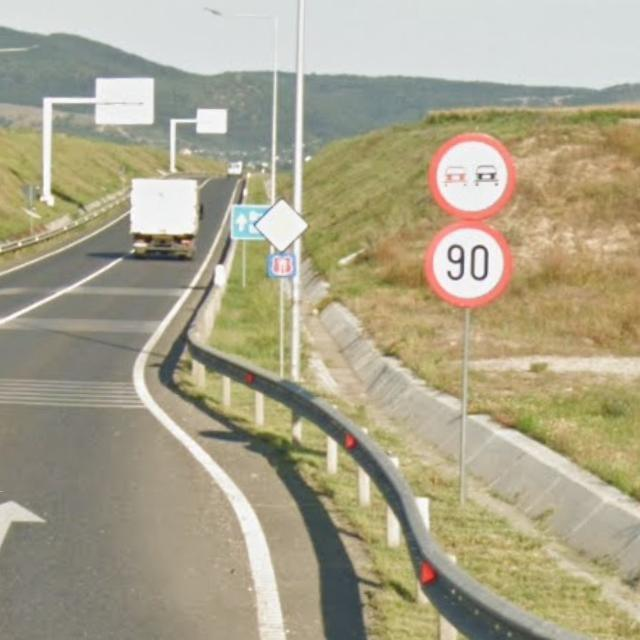forb_overtake: (427, 133, 518, 217)
